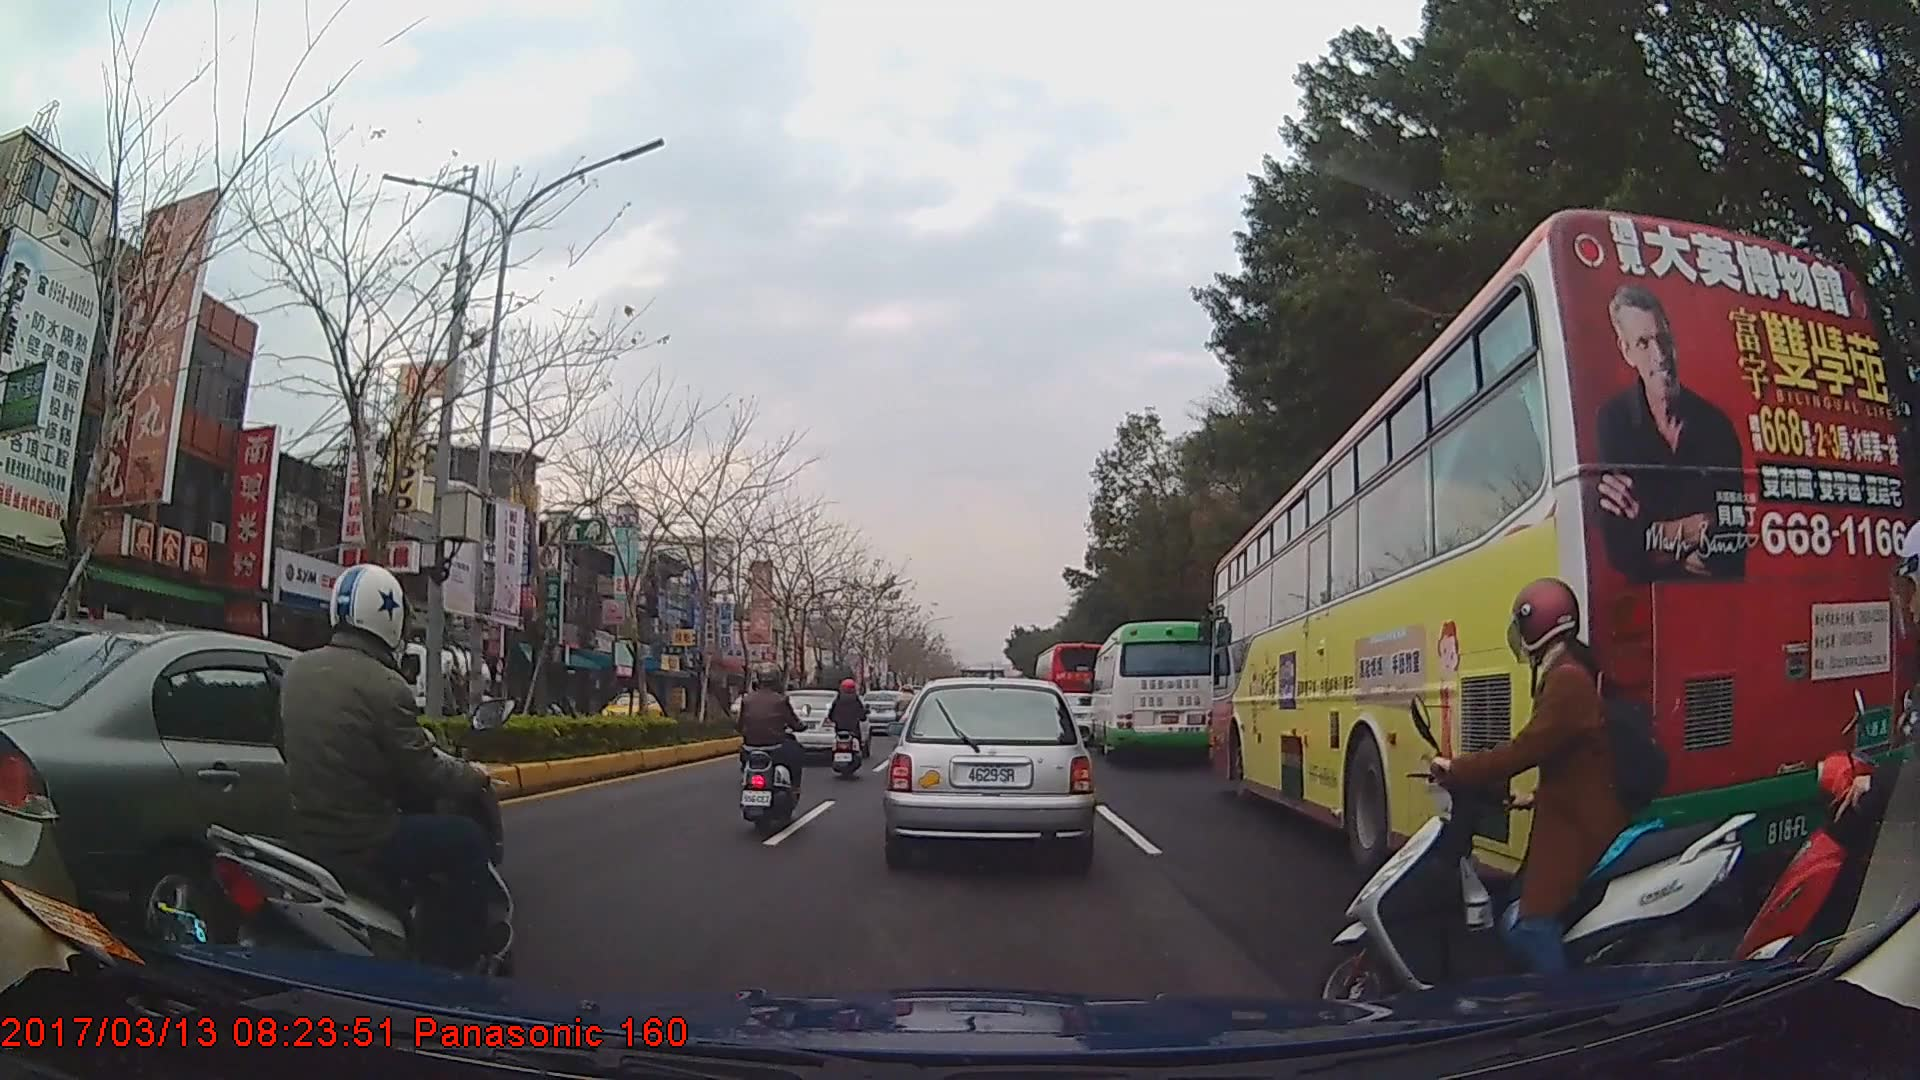rider: (1297, 580, 1754, 1037), (209, 564, 515, 1023), (1720, 526, 1920, 1060), (729, 659, 807, 838), (829, 677, 870, 782), (893, 684, 918, 736)
vehicle: (1211, 206, 1907, 893), (0, 612, 502, 964), (886, 673, 1092, 866), (300, 640, 508, 758), (1090, 619, 1216, 764), (769, 687, 869, 767), (1031, 638, 1109, 734), (593, 687, 667, 733)
